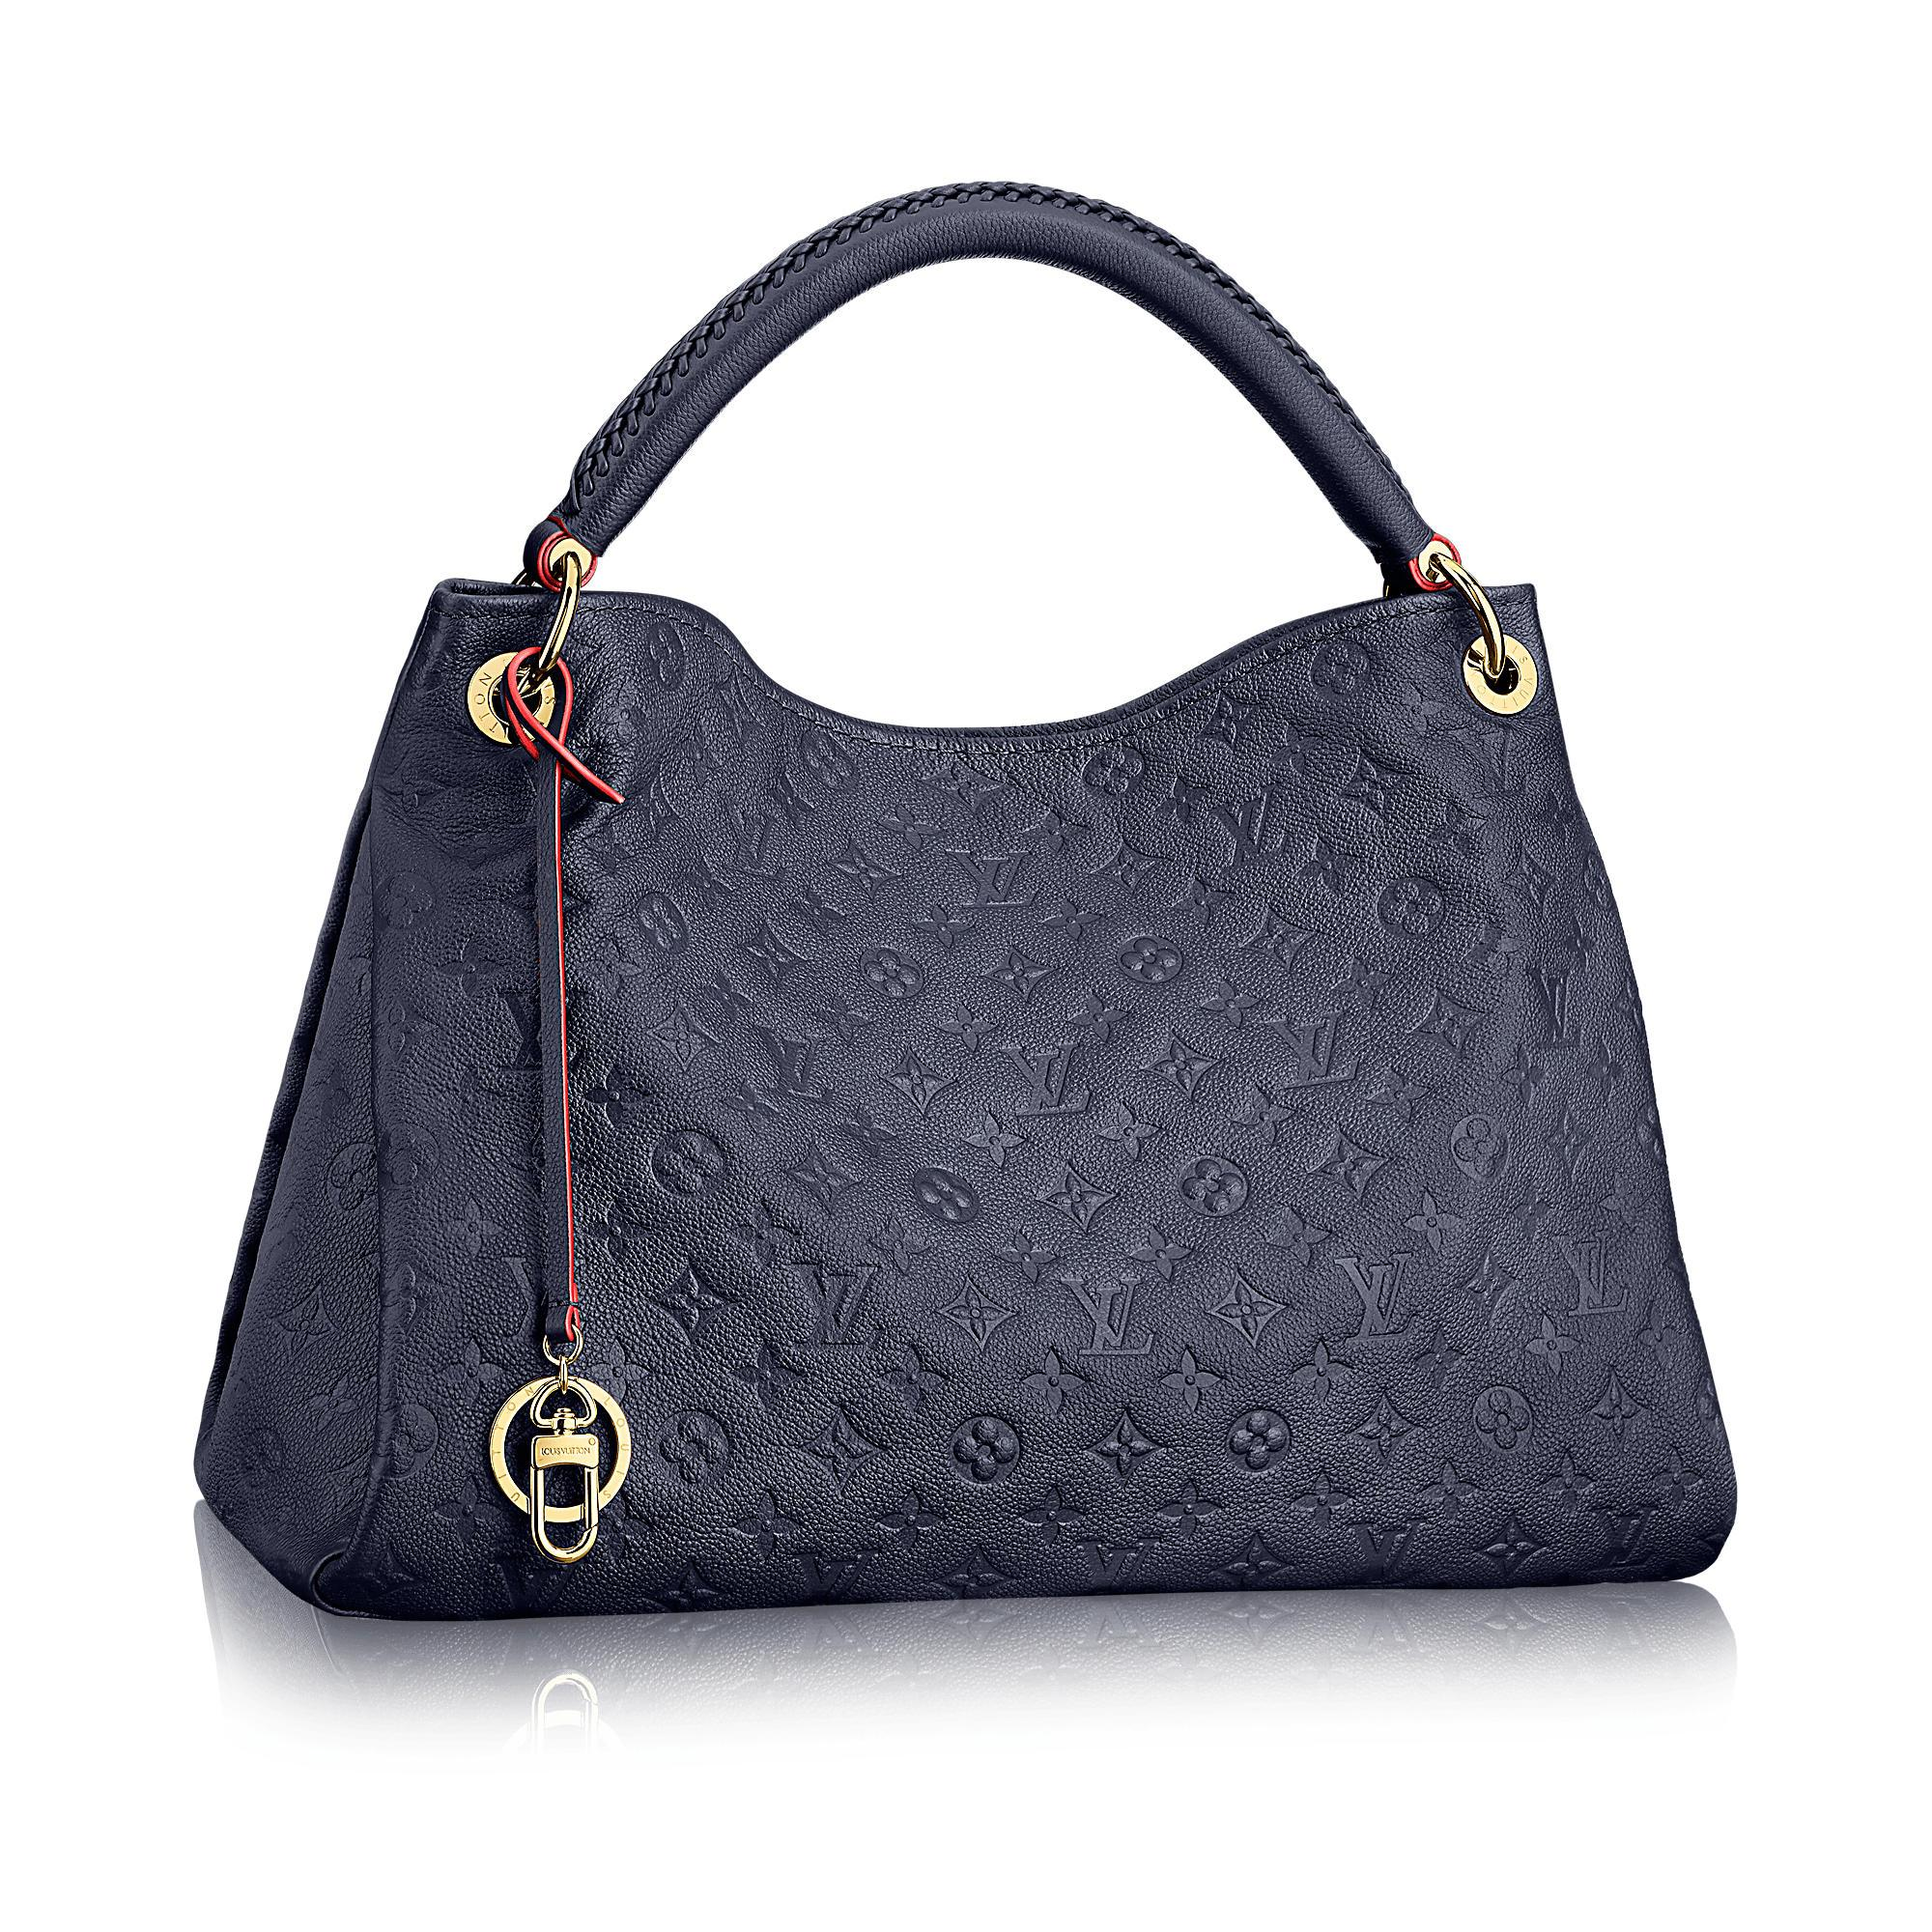LOUIS-VUITTON: (786, 1254, 886, 1355), (1056, 1276, 1157, 1361), (1265, 1007, 1361, 1093), (993, 1039, 1095, 1118), (747, 1017, 837, 1108), (1325, 1253, 1419, 1339), (1541, 1230, 1631, 1318), (1208, 773, 1286, 872), (938, 840, 1037, 911), (1582, 1495, 1661, 1578), (1445, 722, 1527, 796), (1520, 961, 1583, 1051), (715, 791, 778, 879)
